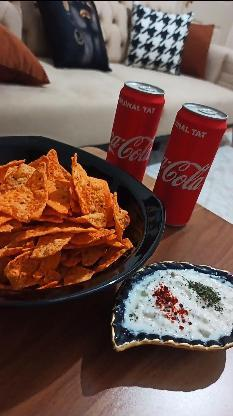Can: (151, 102, 229, 226), (105, 81, 166, 181)
